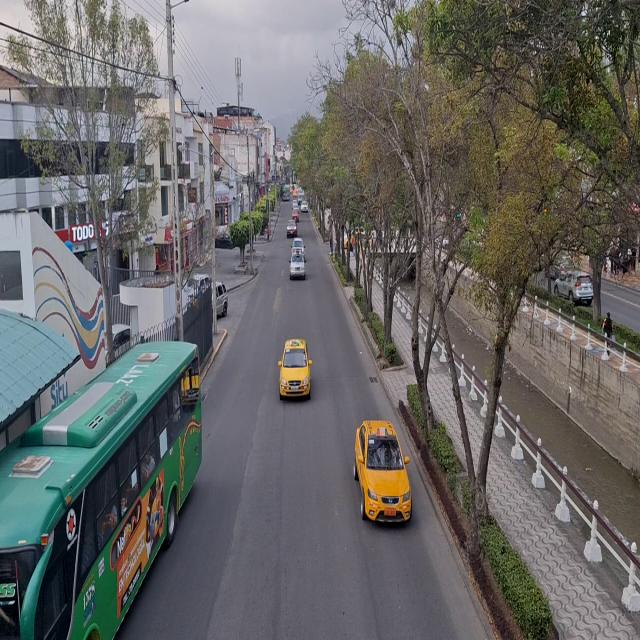BUS: (3, 337, 198, 640)
SED: (354, 426, 408, 524), (279, 340, 309, 396)
SUV: (555, 270, 594, 304)
